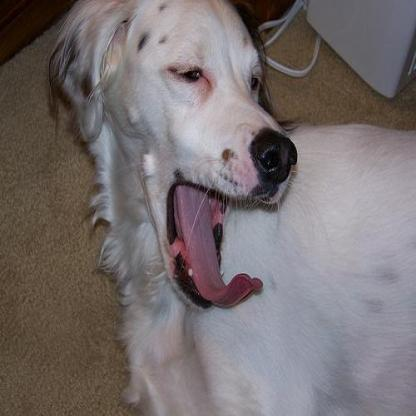English_setter: (45, 0, 413, 413)
